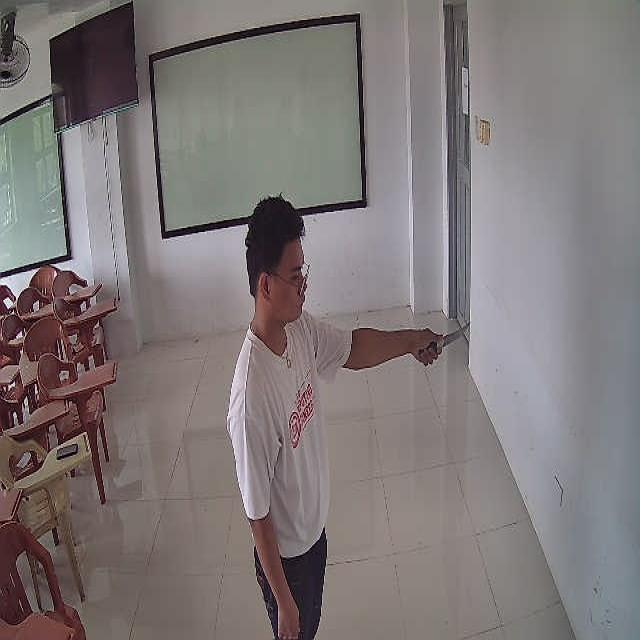knife: (426, 321, 470, 356)
